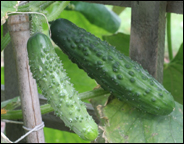cucumber: (50, 18, 174, 118), (25, 31, 102, 143)
